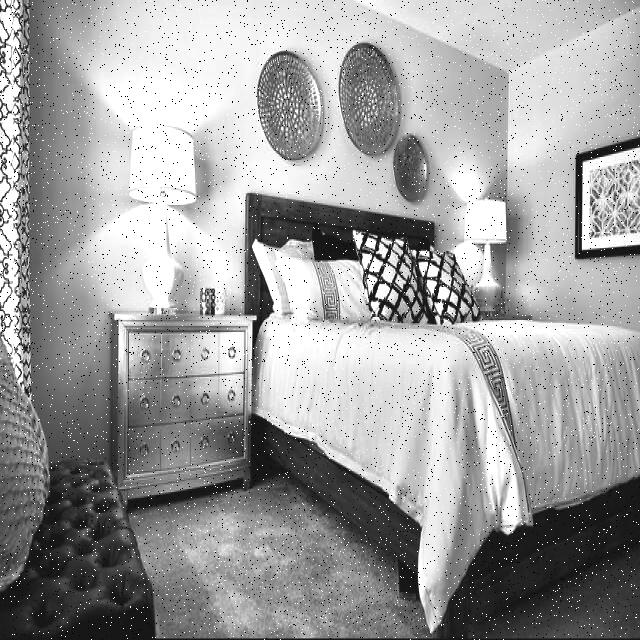bed: (238, 190, 640, 542)
